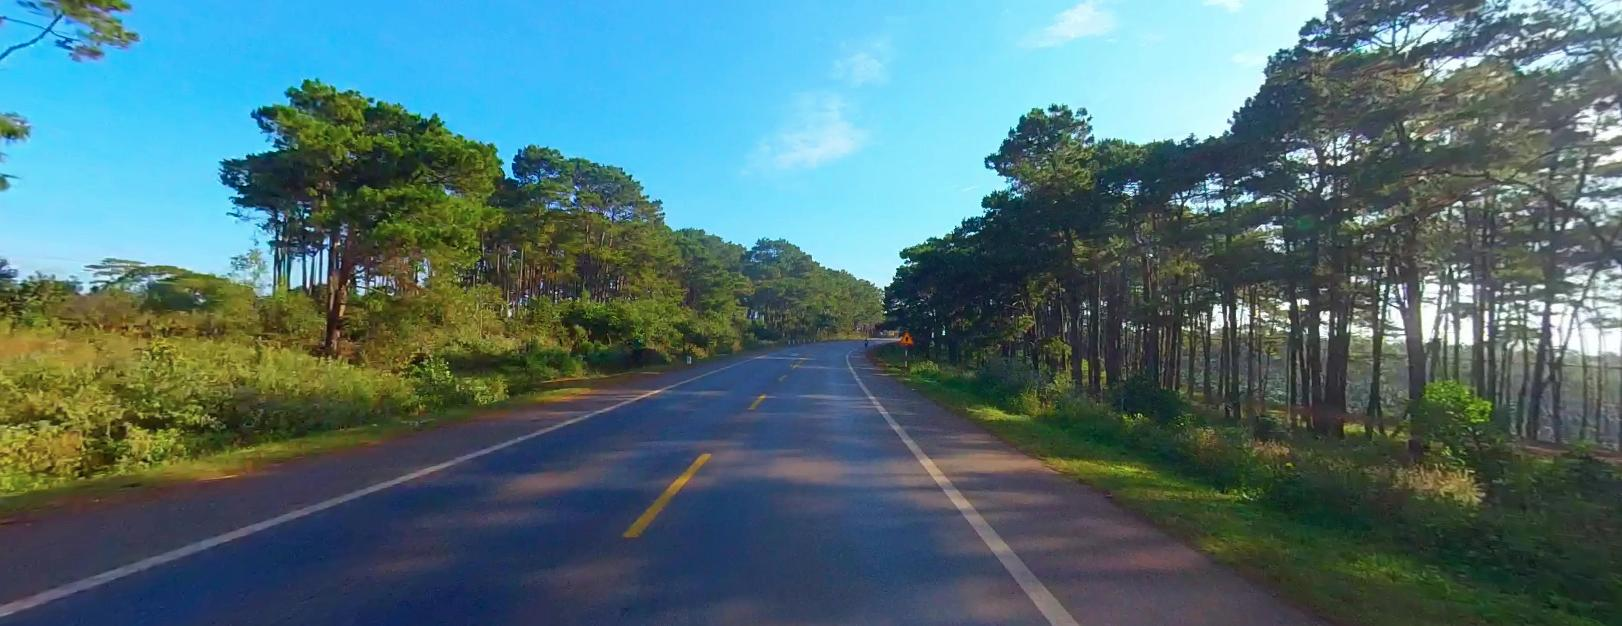Nguy hiem: (899, 330, 913, 342)
